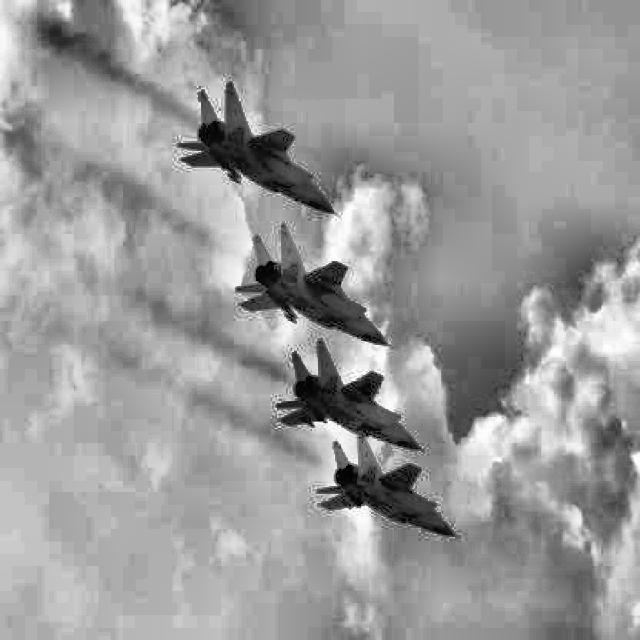Mig31: (177, 80, 340, 218), (234, 221, 394, 350), (276, 338, 426, 453), (316, 435, 461, 540)
